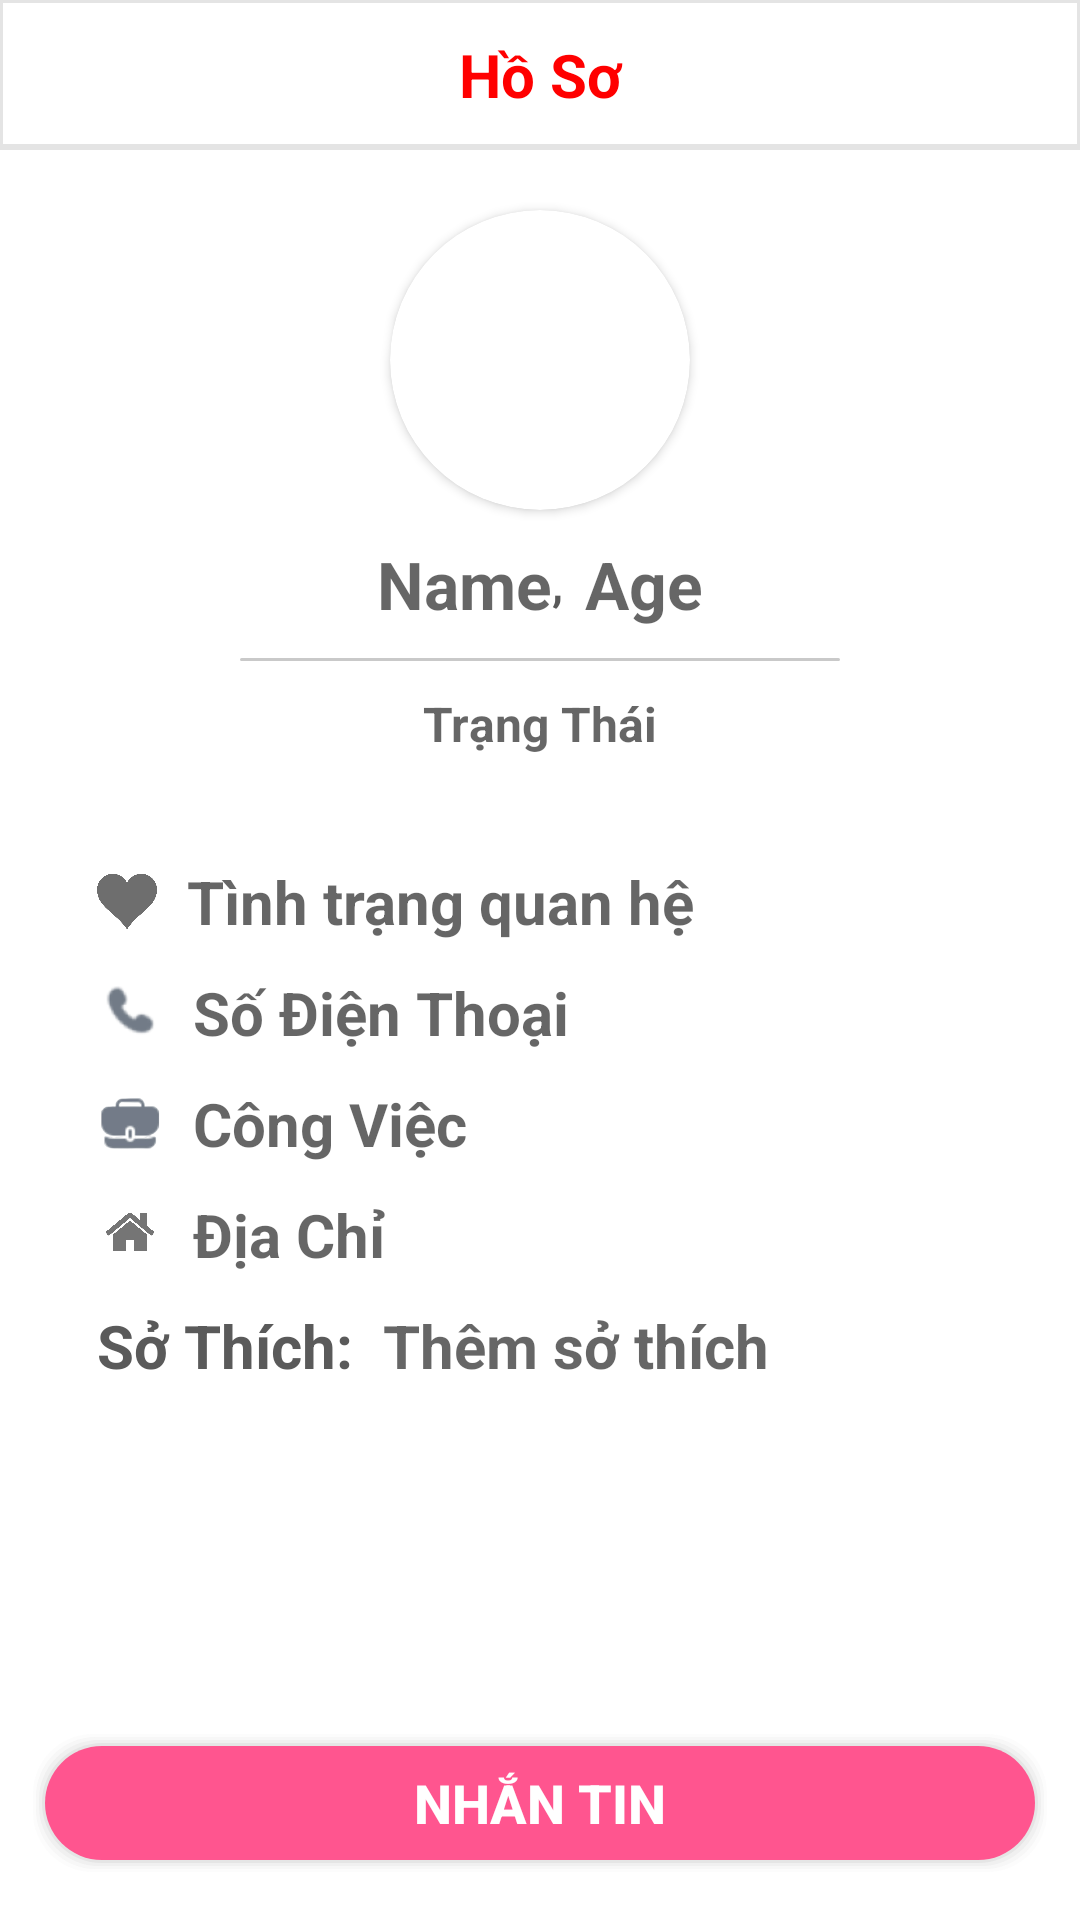

Locate icon controls on the screen. Image size 1080×1920, boxes as {"left": x1, "top": y1, "right": x2, "bottom": y2}.
home: {"left": 106, "top": 1213, "right": 154, "bottom": 1251}
jobs: {"left": 101, "top": 1098, "right": 159, "bottom": 1149}
phone: {"left": 107, "top": 987, "right": 154, "bottom": 1033}
